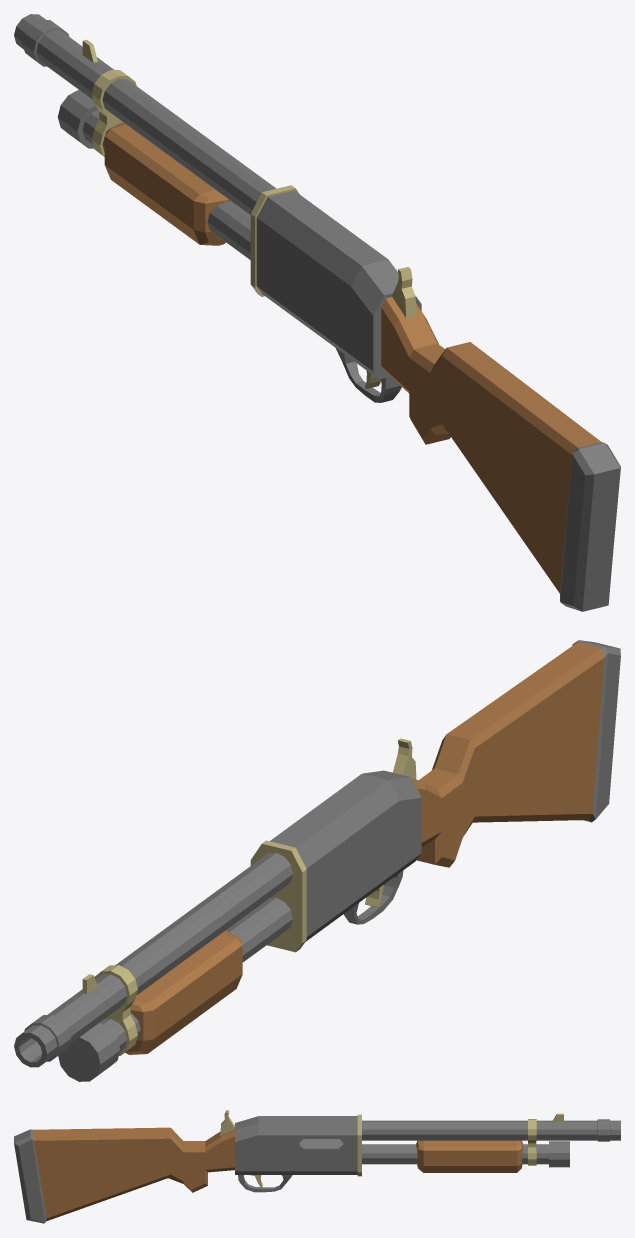
Rendered from Pump-Shotgun-Short.fbx.
3 views of the same model, one above another, from view 1: azimuth 30°, elevation 25°; view 2: azimuth 150°, elevation 25°; view 3: azimuth 270°, elevation 25° (orthographic). The views are drawn at different scales.
Parts seen in each view (by area): view 1: Shotgun_B.001; view 2: Shotgun_B.001; view 3: Shotgun_B.001.
Boxes of the visible parts, x1,y1,x2,y2 form: Shotgun_B.001: (14, 14, 620, 611); Shotgun_B.001: (14, 640, 620, 1081); Shotgun_B.001: (14, 1110, 620, 1223).
Size of the model in its own units: 58.58 by 224 by 1134.
